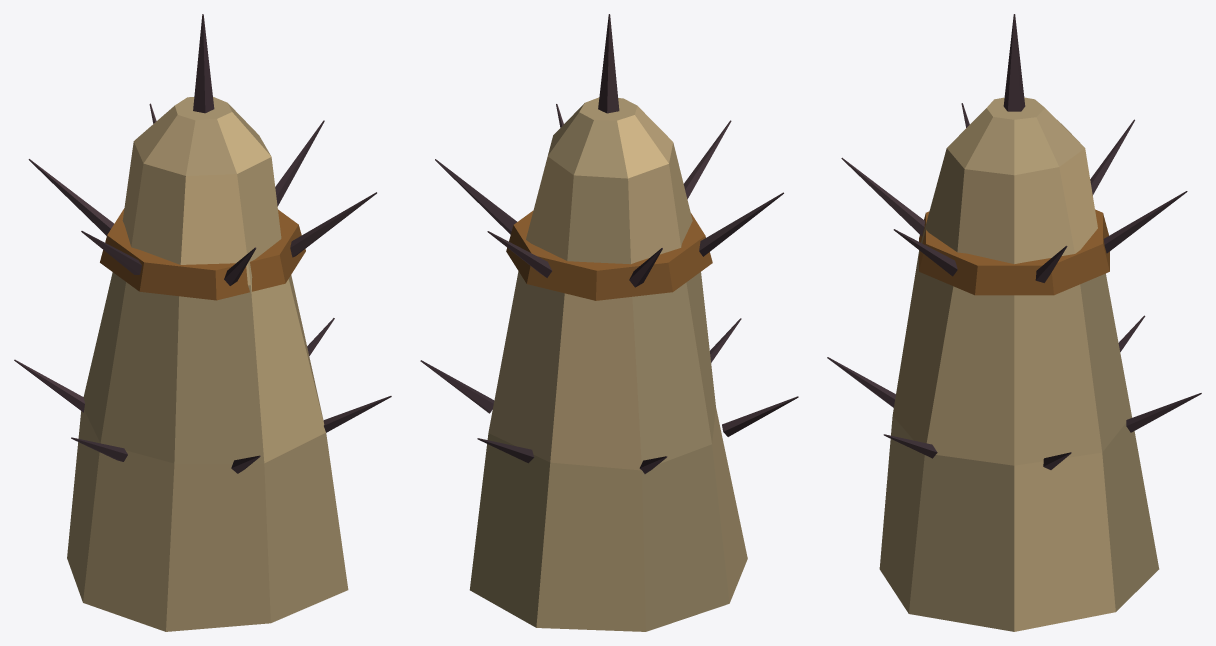
File: hive_spine.glb
3 renders of one model, left to right at view 1: azimuth 30°, elevation 25°; view 2: azimuth 150°, elevation 25°; view 3: azimuth 270°, elevation 25°, orthographic.
Visible parts, largest first — view 1: hive_spine; view 2: hive_spine; view 3: hive_spine.
Part boxes in pixels (x1=…): hive_spine: x1=14, y1=14, x2=391, y2=631; hive_spine: x1=420, y1=14, x2=798, y2=631; hive_spine: x1=827, y1=14, x2=1201, y2=631.
Size of the model in its own units: 4.98 by 8.3 by 5.08.
1 material, 1 textured.
